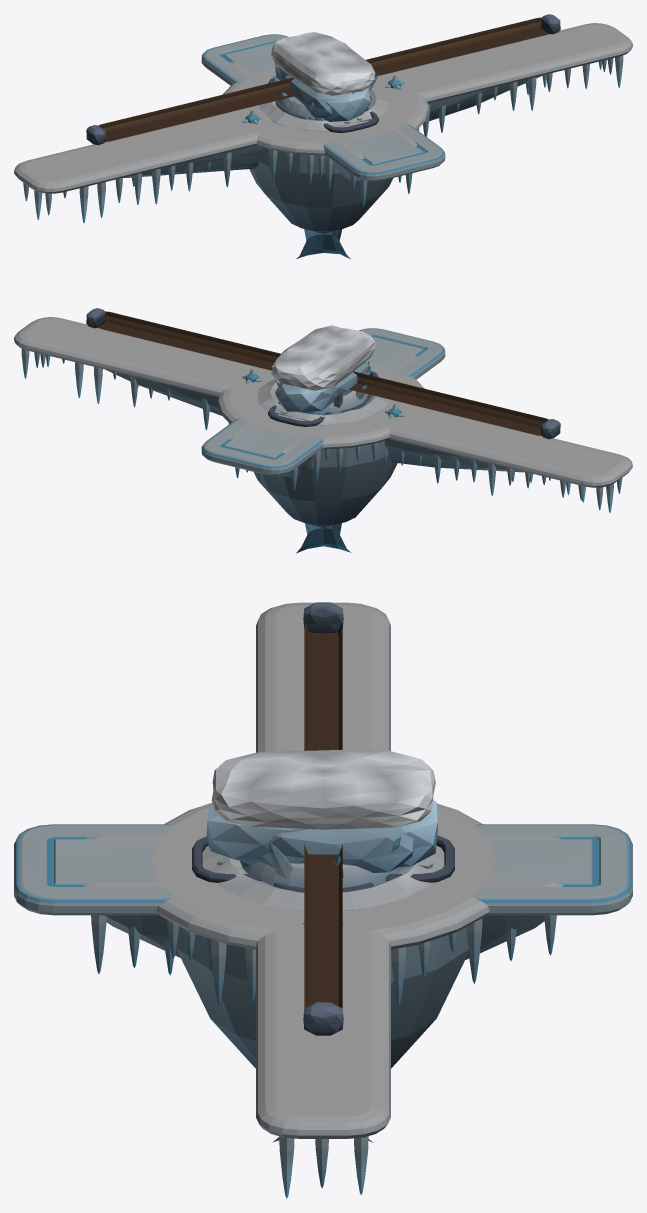
Rendered from glacier-4-ysa3ZQrh.glb.
3 views of the same model, one above another, from view 1: azimuth 30°, elevation 25°; view 2: azimuth 150°, elevation 25°; view 3: azimuth 270°, elevation 25° (orthographic). The views are drawn at different scales.
Visible parts, largest first — view 1: block_40x2x4#0, disc_12x1.5#0, mount_15.3#0, block_6x2x20_ice#0, spout_2x5#0, geyserVent_3#0, support_0_square#0, block_5x2x16#0, jetVent_3x8#0; view 2: block_40x2x4#0, disc_12x1.5#0, mount_15.3#0, block_6x2x20_ice#0, spout_2x5#0, geyserVent_3#0, support_0_square#0, jetVent_3x8#0, block_5x2x16#0; view 3: block_40x2x4#0, disc_12x1.5#0, block_6x2x20_ice#0, spout_2x5#0, mount_15.3#0, geyserVent_3#0, block_5x2x16#0, jetVent_3x8#0.
Boxes of the visible parts, x1,y1,x2,y2 form: block_40x2x4#0: (14, 23, 632, 223); disc_12x1.5#0: (222, 68, 429, 233); mount_15.3#0: (86, 14, 560, 145); block_6x2x20_ice#0: (201, 34, 445, 181); spout_2x5#0: (271, 32, 375, 123); geyserVent_3#0: (259, 74, 390, 131); support_0_square#0: (296, 229, 350, 259); block_5x2x16#0: (230, 61, 416, 206); jetVent_3x8#0: (268, 78, 378, 132); block_40x2x4#0: (14, 317, 632, 512); disc_12x1.5#0: (217, 362, 424, 527); mount_15.3#0: (86, 308, 560, 439); block_6x2x20_ice#0: (201, 328, 445, 476); spout_2x5#0: (271, 325, 375, 420); geyserVent_3#0: (257, 371, 389, 425); support_0_square#0: (296, 523, 351, 553); jetVent_3x8#0: (268, 371, 378, 426); block_5x2x16#0: (230, 355, 416, 490); block_40x2x4#0: (256, 602, 390, 1198); disc_12x1.5#0: (152, 803, 494, 1068); block_6x2x20_ice#0: (14, 824, 632, 959); spout_2x5#0: (206, 749, 437, 872); mount_15.3#0: (303, 602, 343, 1035); geyserVent_3#0: (202, 837, 443, 910); block_5x2x16#0: (83, 835, 563, 975); jetVent_3x8#0: (192, 835, 454, 882).
Bounding box in the file's own units: 40.36 × 13.81 × 20.
